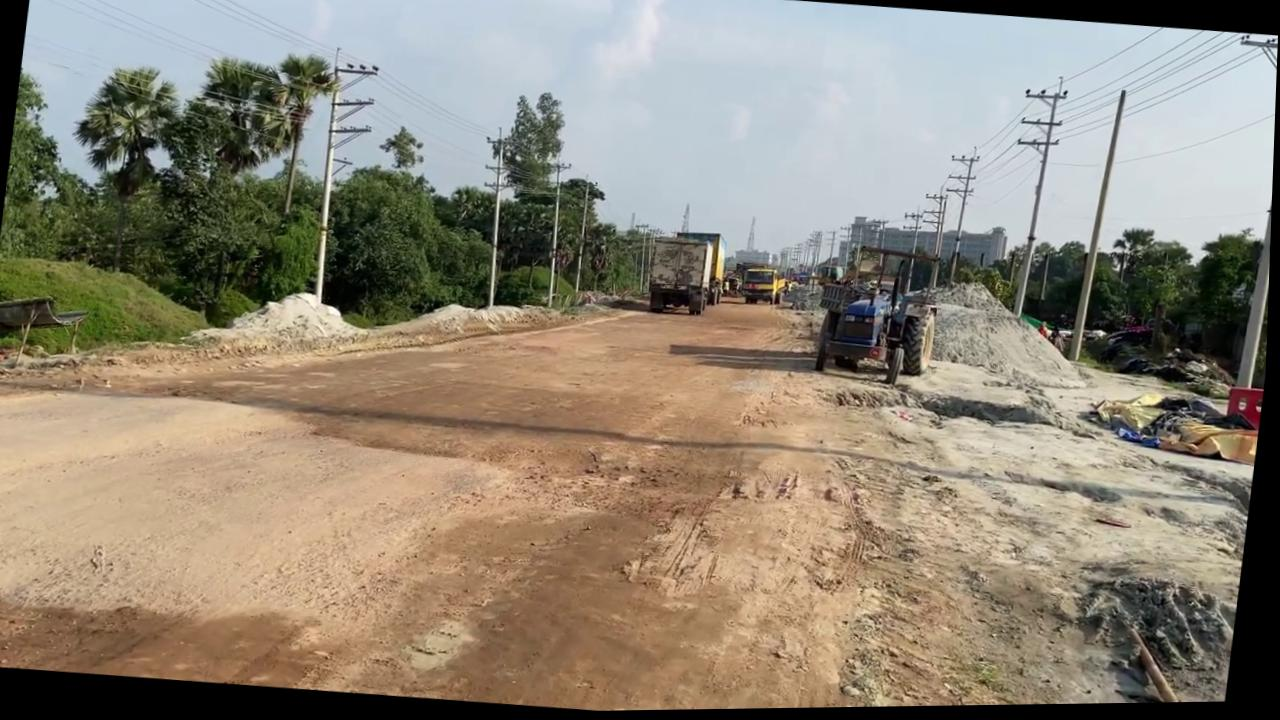Garbage: (1085, 388, 1264, 470)
Obstacle: (0, 290, 93, 373)
Pole: (1068, 90, 1127, 365), (1236, 49, 1278, 393), (306, 47, 353, 304), (467, 127, 518, 309), (540, 163, 573, 309)
Traffic-sign: (148, 51, 296, 327), (56, 58, 186, 278)
Tree: (811, 241, 948, 392), (644, 235, 720, 319), (669, 230, 733, 309), (730, 262, 791, 309)
